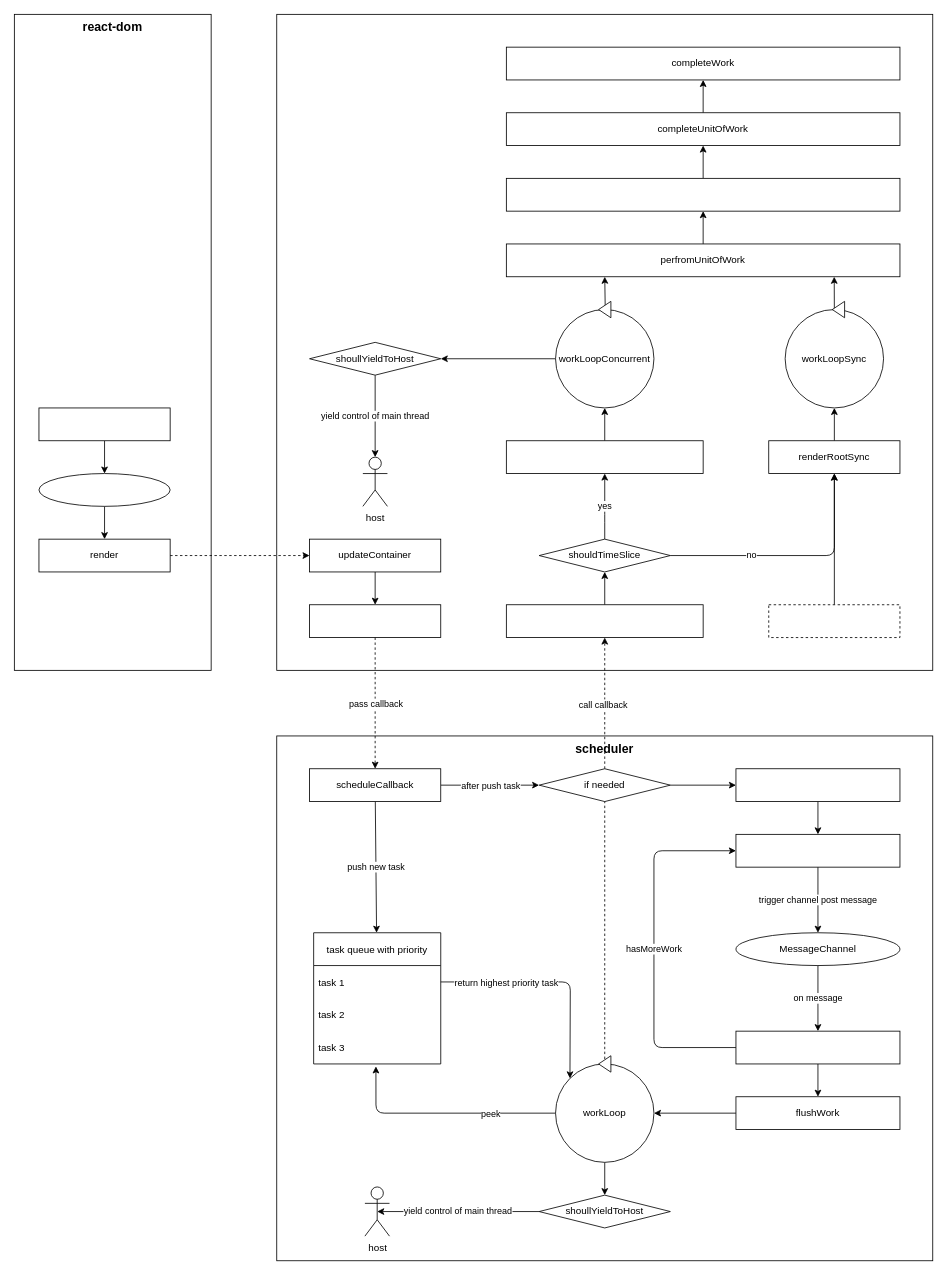
The diagram is 947 pixels wide and 1275 high, and some of its shapes have lost their labels. Here are the shapes that lost their labels. From the top down, the box of each, then its label:
(506, 178, 900, 211): beginWork
(276, 14, 933, 670): react-reconciler
(38, 407, 170, 441): createRoot
(506, 440, 703, 474): renderRootConcurrent
(38, 473, 170, 506): root
(309, 604, 441, 638): scheduleUpdateOnFiber
(506, 604, 703, 638): performConcurrentWorkOnRoot
(768, 604, 900, 638): performSyncWorkOnRoot
(735, 768, 900, 802): requestHostCallback
(735, 834, 900, 867): schedulePerformWorkUntilDeadline
(735, 1030, 900, 1064): performWorkUntilDeadline
